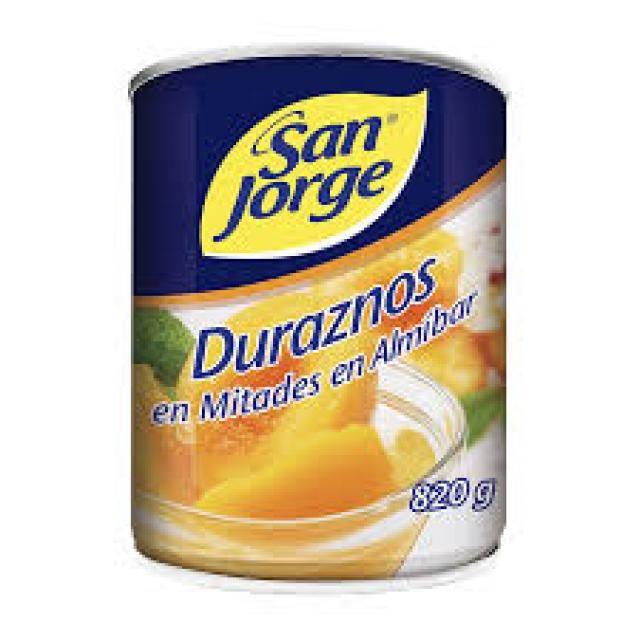Lata: (125, 39, 509, 581)
